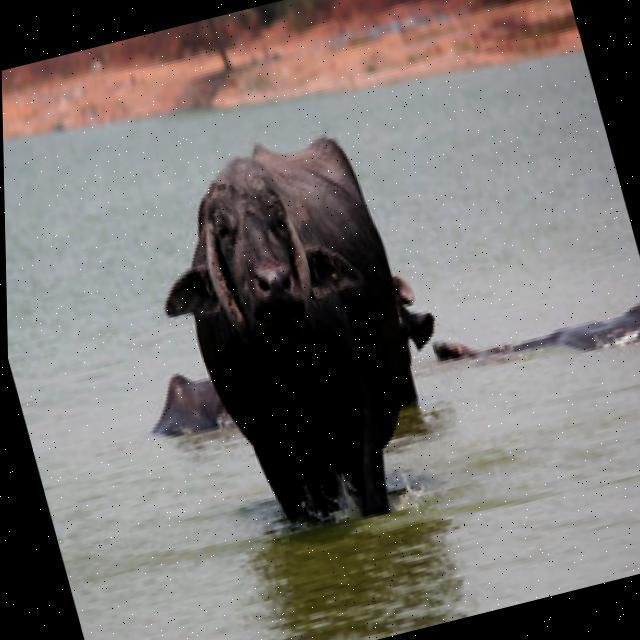Buffalo: (86, 107, 485, 557), (157, 149, 342, 358), (438, 290, 640, 387), (140, 363, 234, 446)
